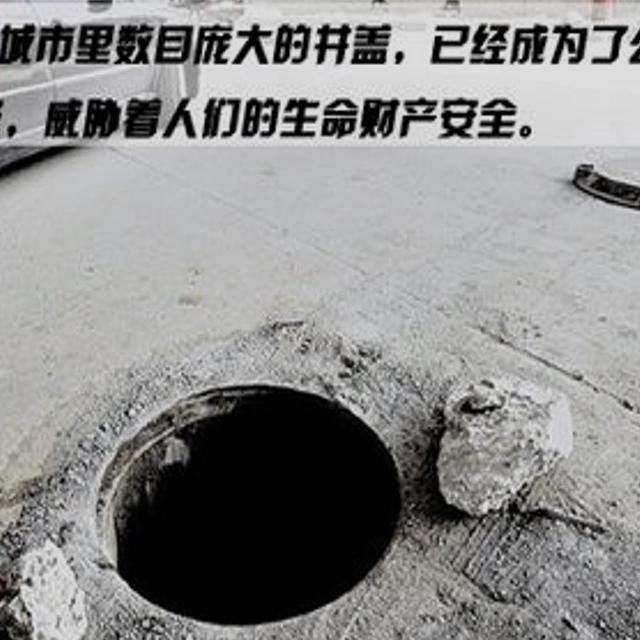lose: (82, 362, 420, 640)
